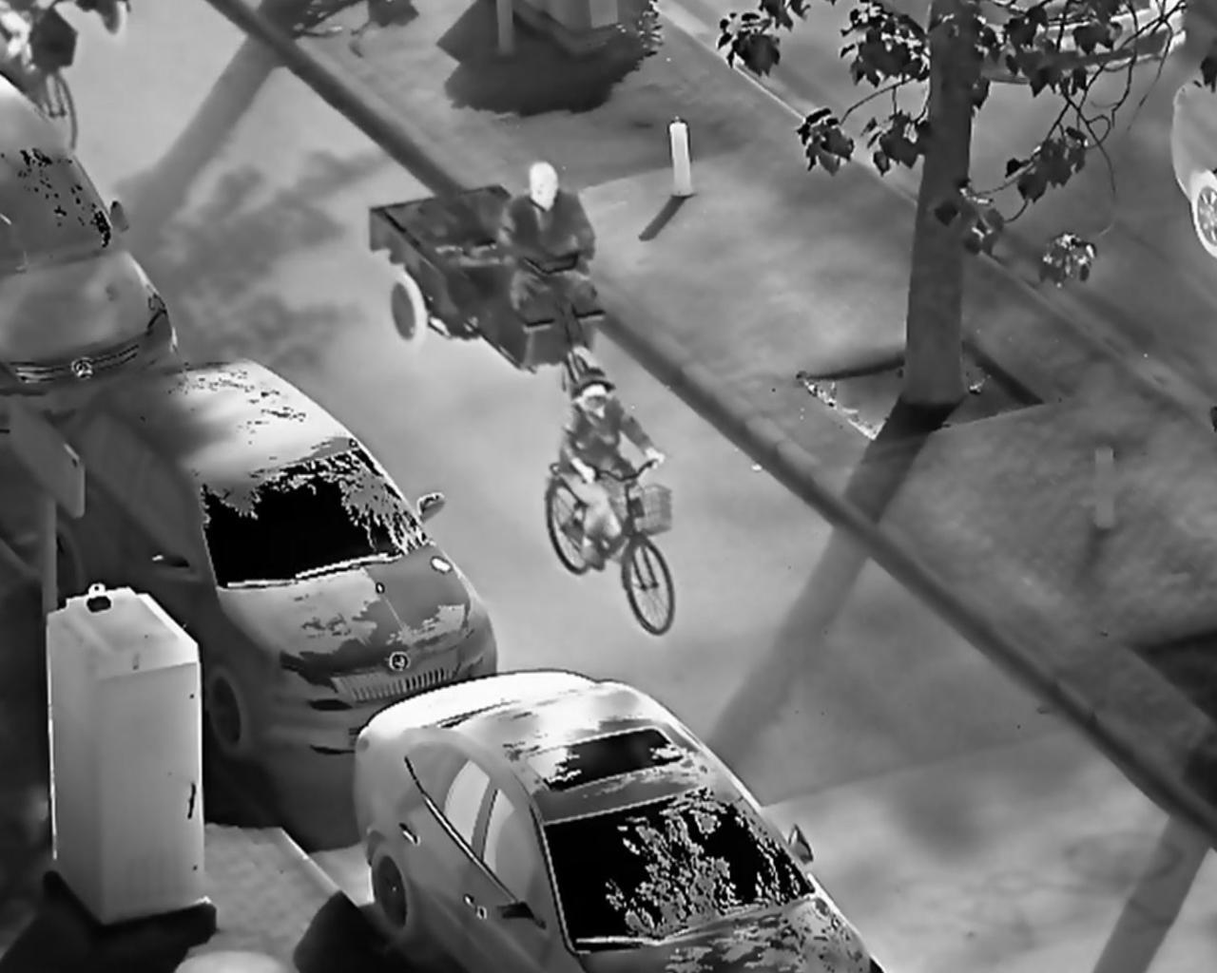person: (559, 369, 670, 575), (493, 158, 600, 317)
